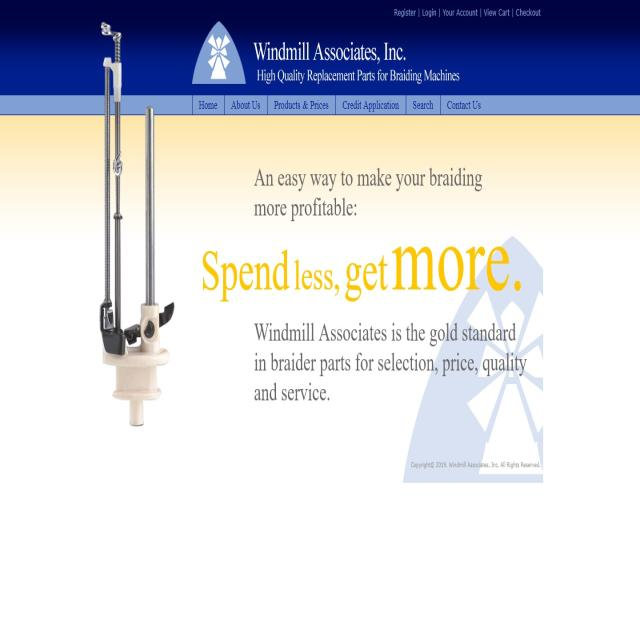button: (335, 94, 406, 116), (268, 94, 334, 117), (442, 94, 486, 116), (225, 95, 267, 118), (439, 2, 479, 26), (480, 3, 512, 25), (514, 0, 542, 25), (192, 95, 225, 114), (408, 96, 440, 114), (392, 2, 417, 22), (417, 1, 438, 24)
heading: (255, 36, 463, 90)
image: (2, 116, 636, 640), (401, 231, 547, 488), (84, 8, 170, 437), (189, 19, 249, 91)
text: (251, 310, 529, 411), (190, 234, 530, 302), (251, 159, 489, 225)
